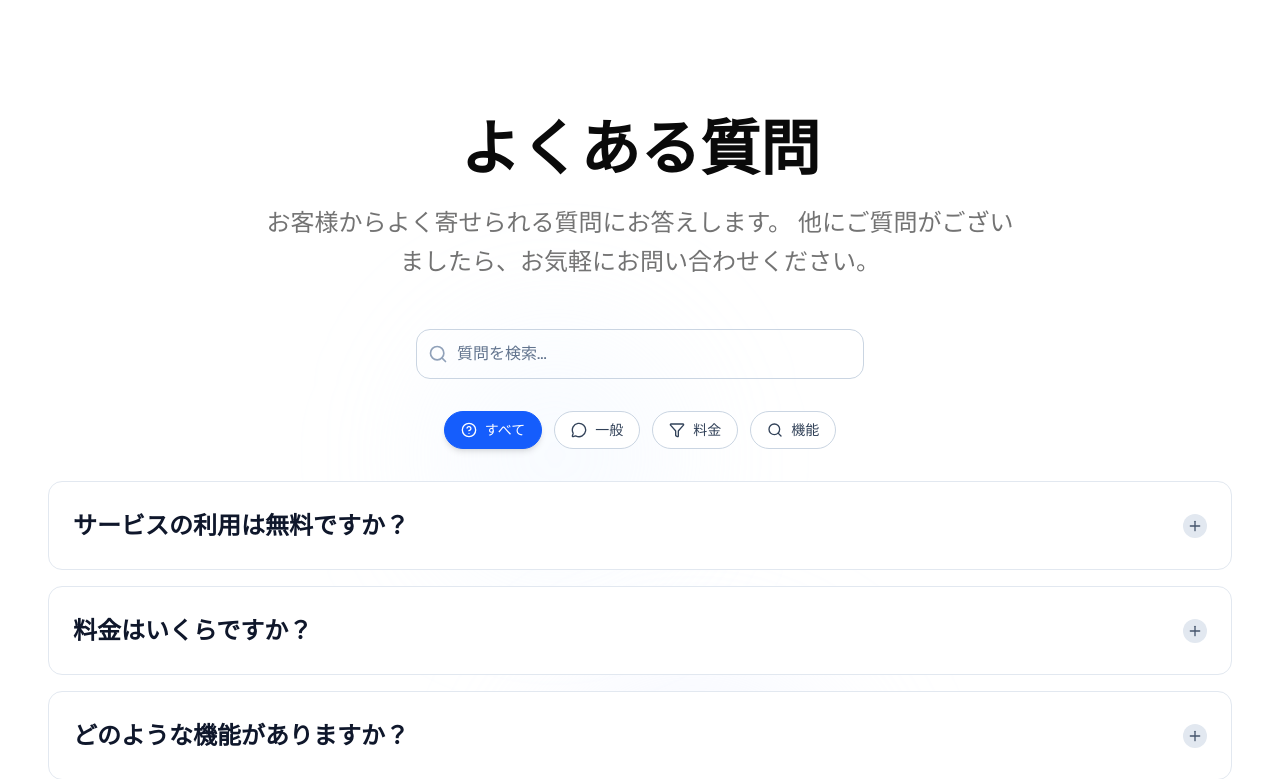
FAQSection › 検索条件リセットボタンが動作する
 まず検索を実行
Type "存在しない質問" into the field with test id "faq-search-input". click: (640,354)
box: 416,329 -> 864,379
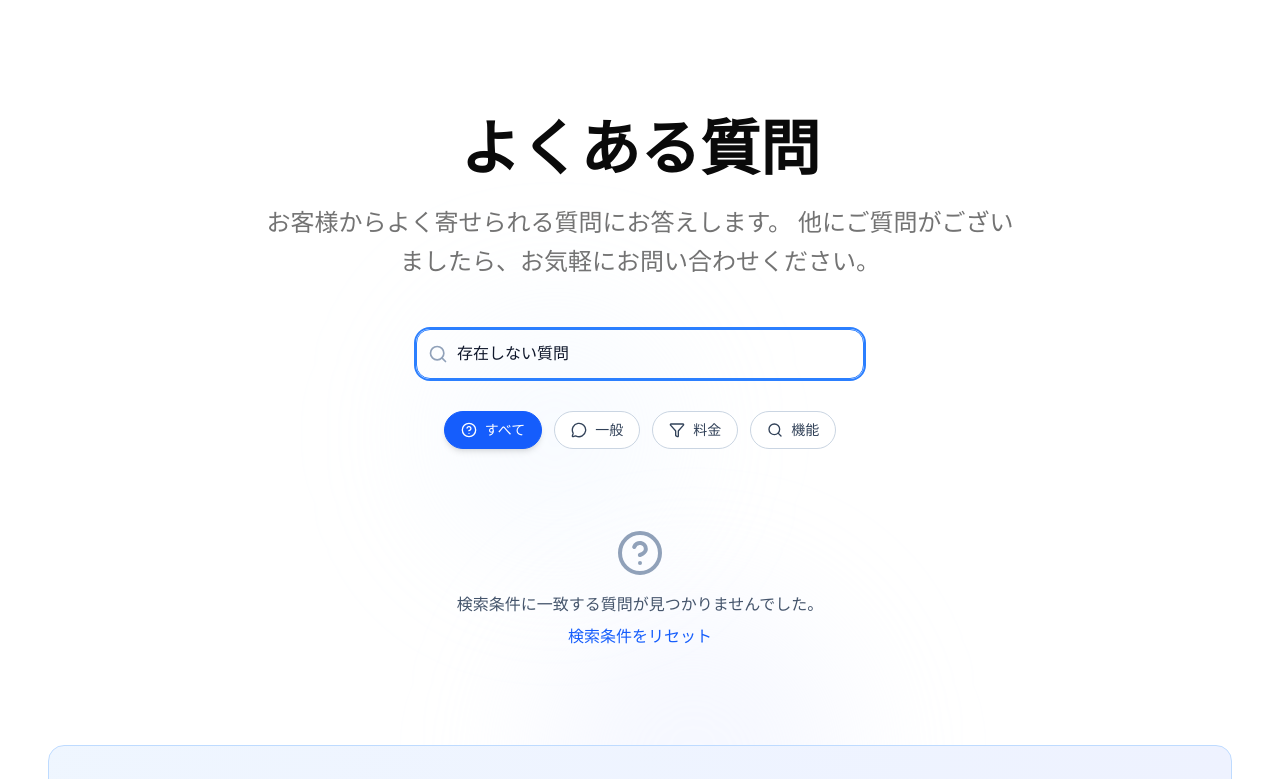
Check: the text "検索条件に一致する質問が見つかりませんでした。" is shown, box 457,594 -> 823,615
リセットボタンをクリック
Click the button "検索条件をリセット". click: (640,637)
box: 568,625 -> 712,649
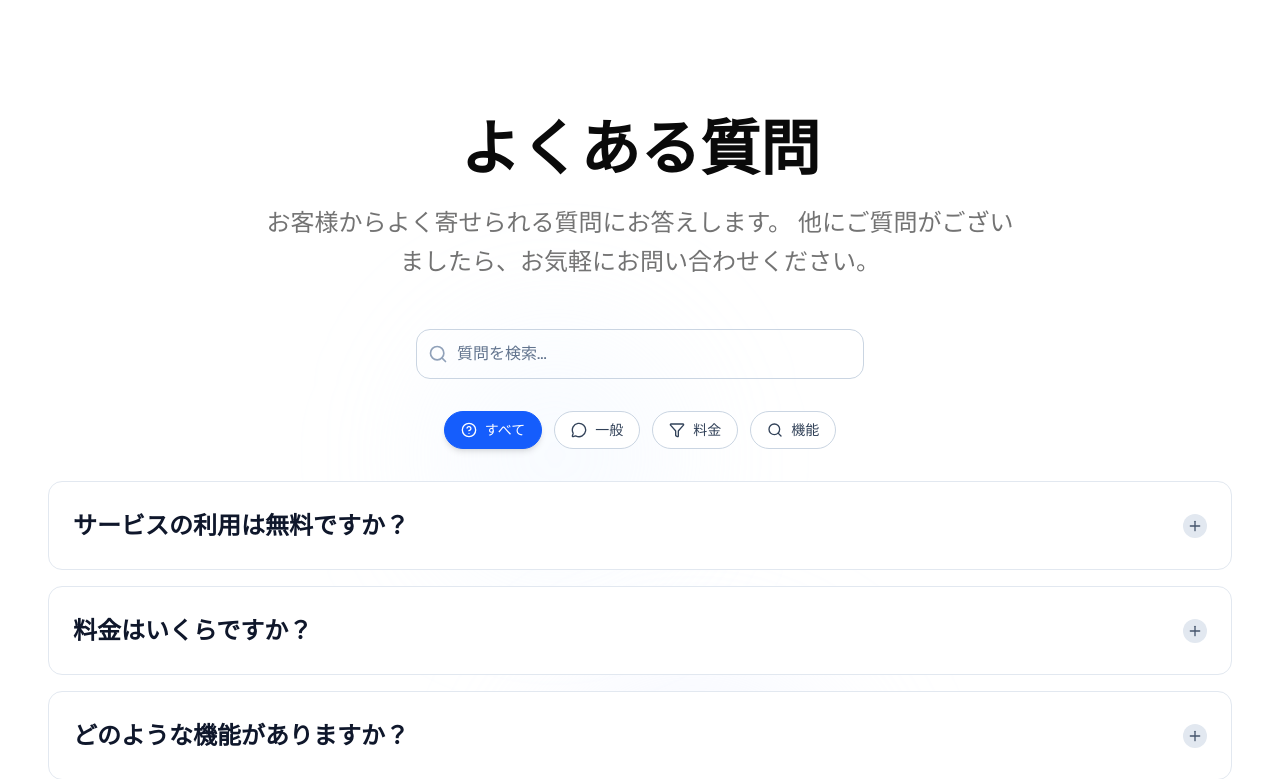
Check: the heading "サービスの利用は無料ですか？" is shown, box 73,506 -> 425,545
Check: the field with test id "faq-search-input" is empty, box 416,329 -> 864,379
